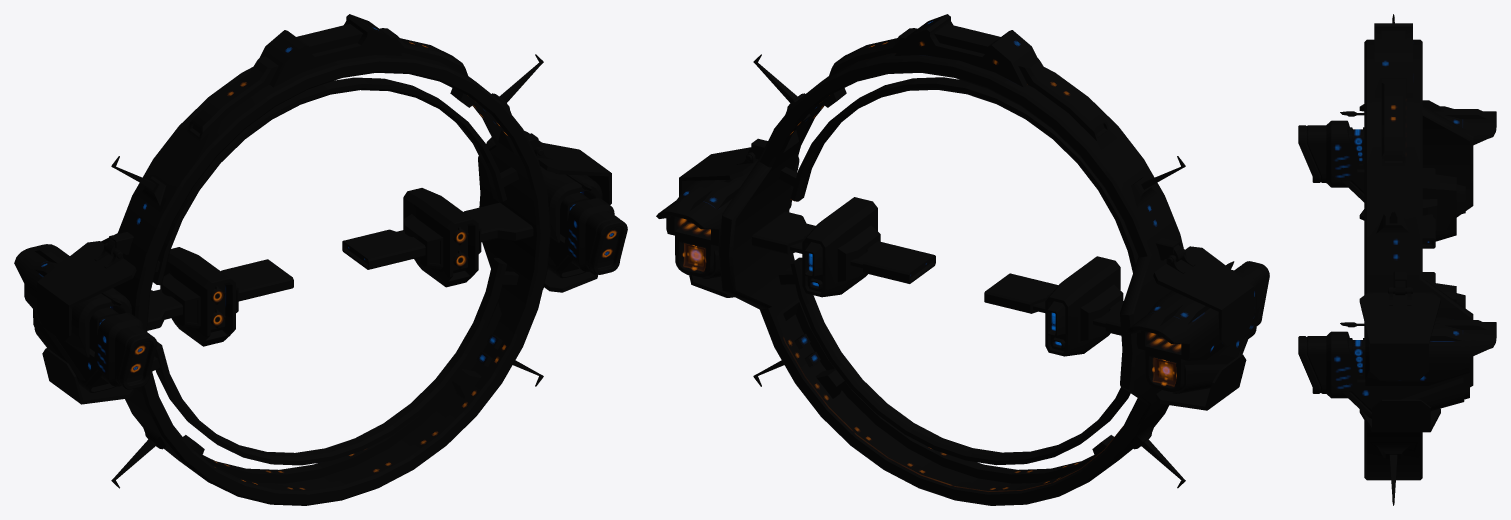
File: SM_Beam_Engine.fbx
The picture shows the model from 3 angles, left to right: view 1: azimuth 30°, elevation 25°; view 2: azimuth 150°, elevation 25°; view 3: azimuth 270°, elevation 25°; orthographic projection. The views are drawn at different scales.
Visible parts, largest first — view 1: SM_Beam_Engine; view 2: SM_Beam_Engine; view 3: SM_Beam_Engine.
Boxes of the visible parts, left/top/right/bottom form: SM_Beam_Engine: left=14, top=14, right=627, bottom=505; SM_Beam_Engine: left=656, top=14, right=1269, bottom=505; SM_Beam_Engine: left=1298, top=14, right=1496, bottom=505.
Bounding box in the file's own units: 415 × 336 × 143.
